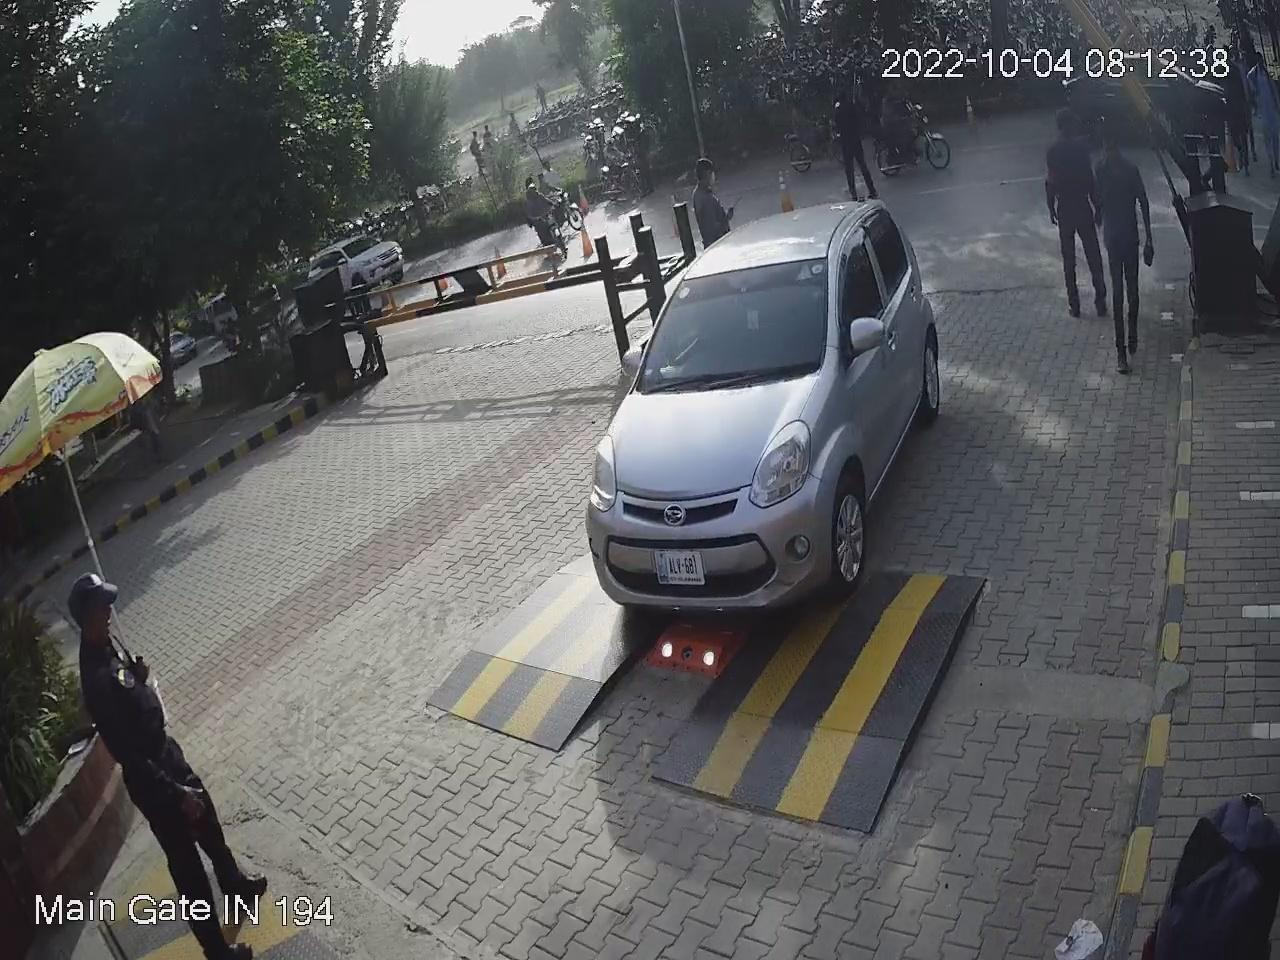windshield: (621, 245, 833, 387)
